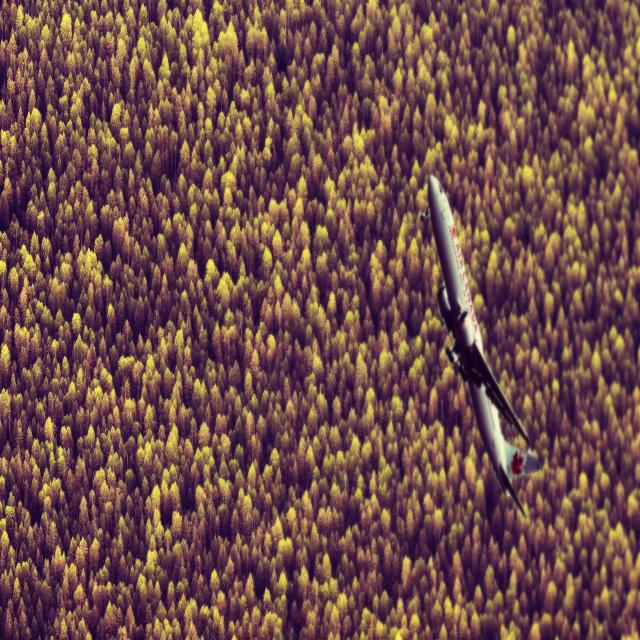airplane: (422, 173, 540, 518)
